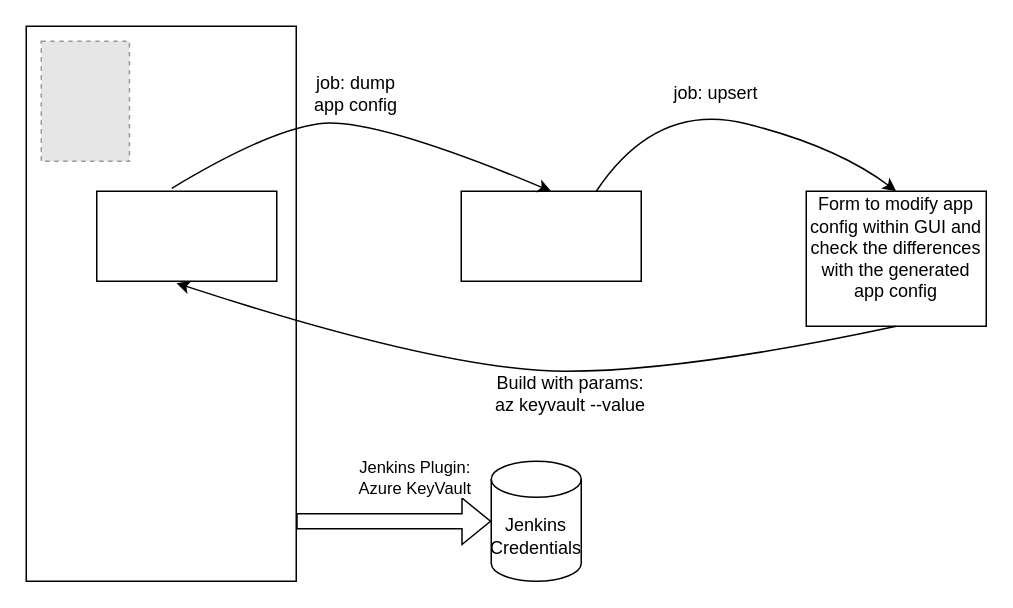
Some shapes in this 1013 by 608 pixel diagram are drawn without their labels. Grey dashed boxes stand in for pictures. Each missing label, with the centre of its shape:
"Azure app config" goes at pixel 186 235.
"jenkins cache tmp: -app config" goes at pixel 550 235.
